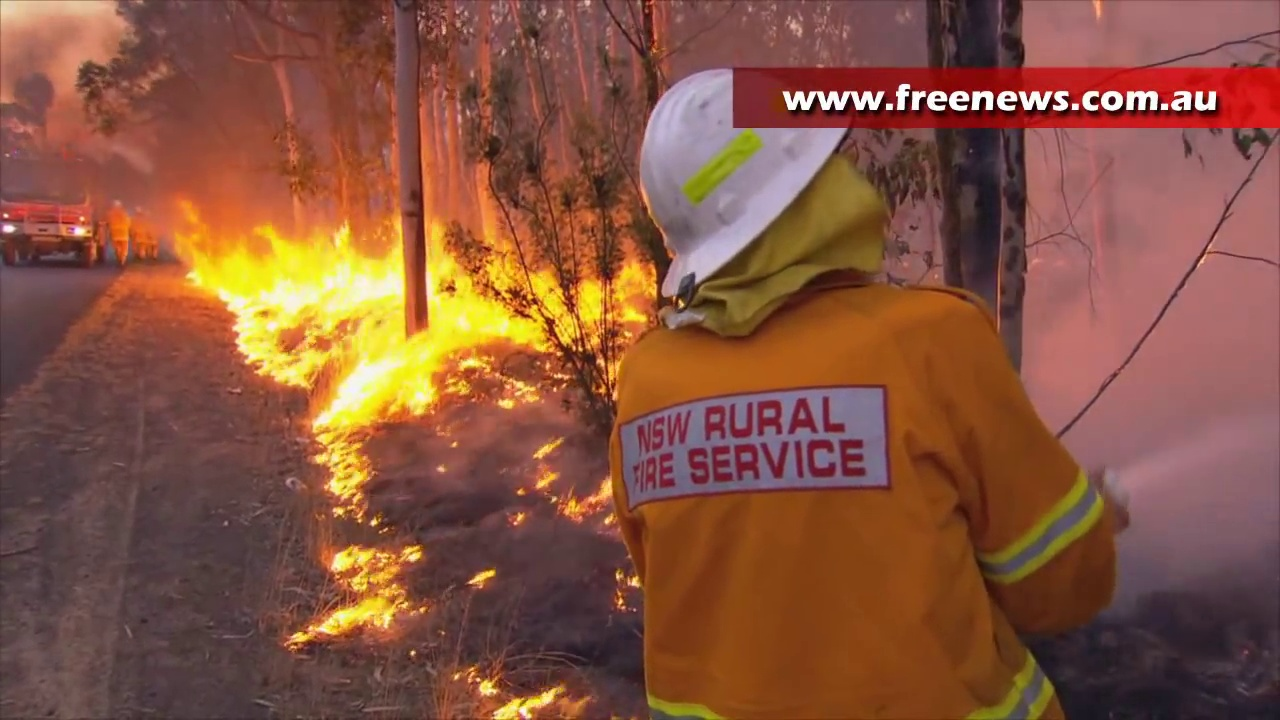fire: (181, 219, 651, 407), (294, 542, 421, 642), (302, 409, 377, 522), (476, 680, 568, 716), (598, 480, 615, 499)
